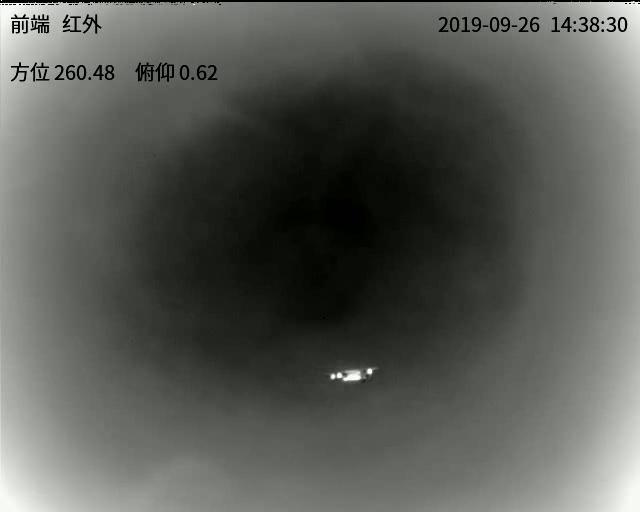DRONE: (326, 366, 377, 384)
